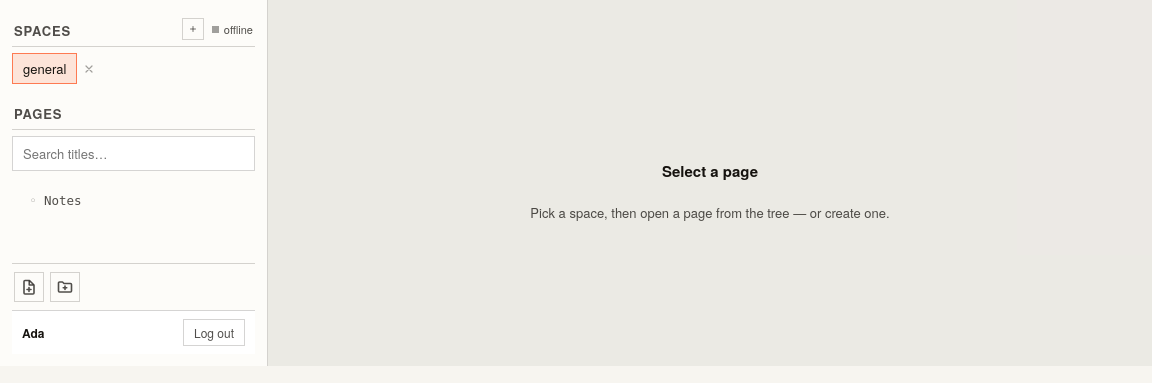
Test: <KbView> formatting toolbar › shows no toolbar in read mode and reveals it once the body is clicked
The width and height of the screenshot is (1152, 383).
Check: the button "general" is shown, box [12,53,77,84]
Click the button "◦ Notes": (134, 201) [18,187,249,214]
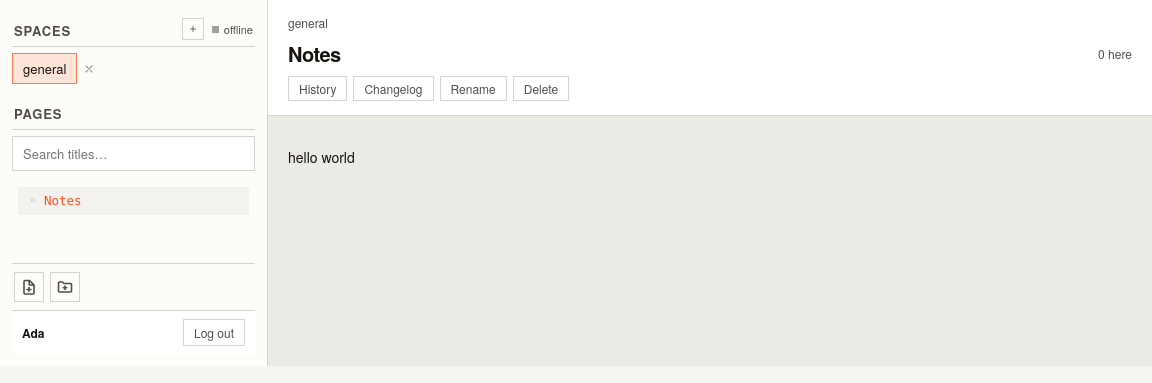
Check: the heading "Notes" is shown, box [288,39,340,68]
Click the text "hello world": (321, 157) [288,147,355,167]
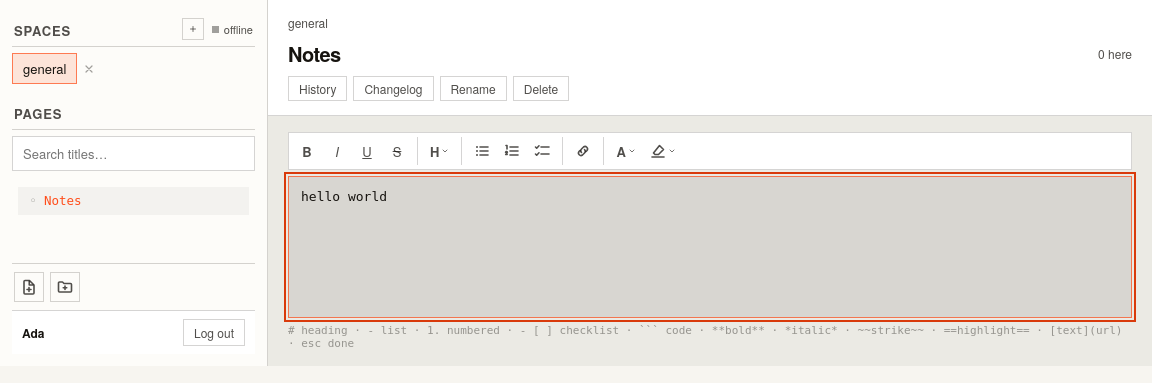
Check: the text box named "Page body" is shown, box [288,176,1132,318]
Check: the element showing "B I U S H A" is shown, box [288,132,1132,170]
